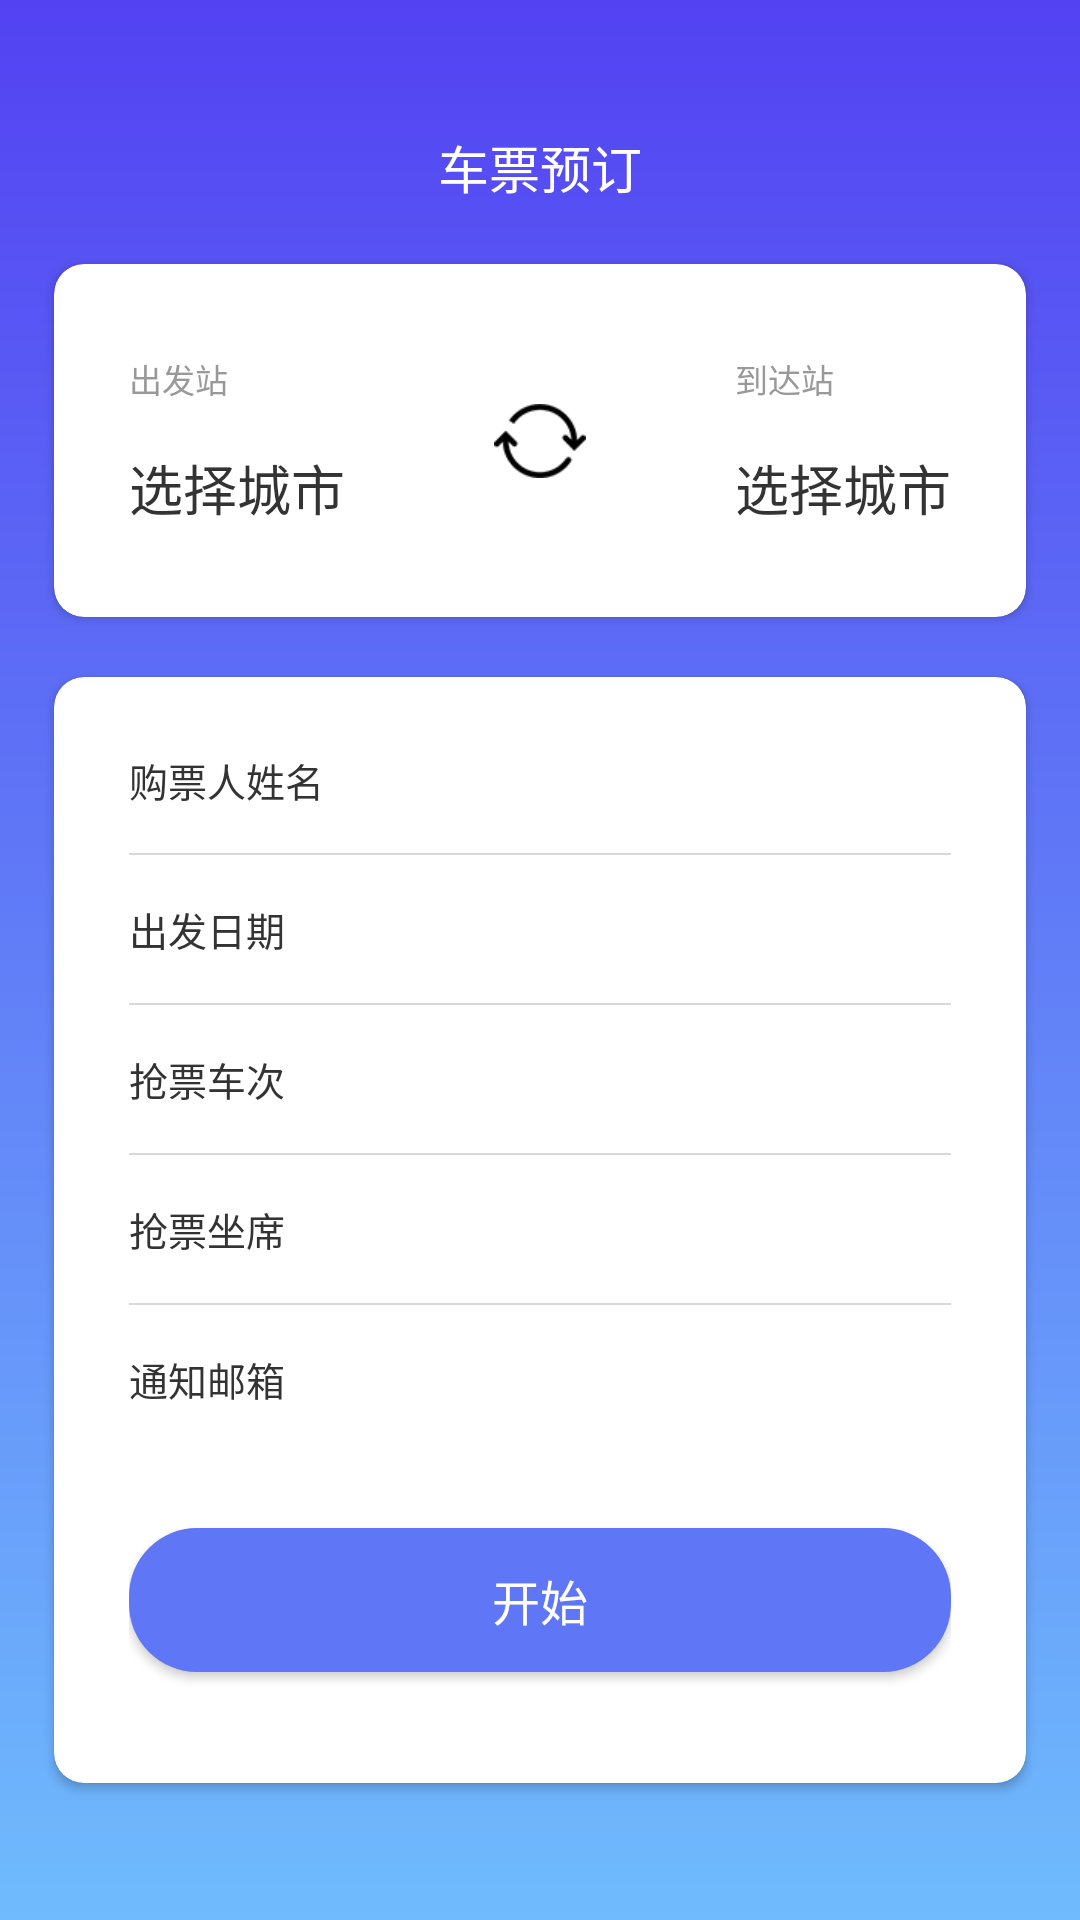

Locate icon controls on the screen. Image size 1080w x 1920h, boxes as (x1, y1, x2, y2).
from to: (494, 404, 586, 478)
